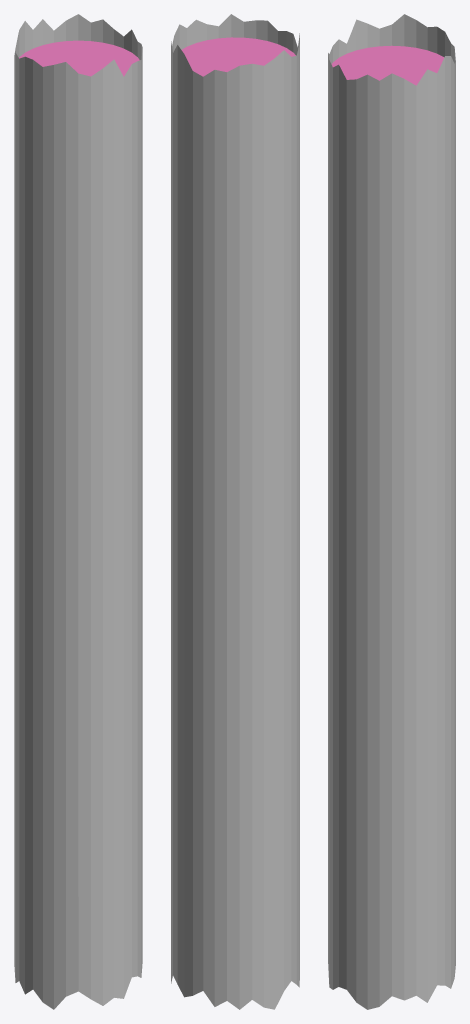
File: Wood3.fbx
3 views of the same model, side by side, from view 1: azimuth 90°, elevation 25°; view 2: azimuth 150°, elevation 25°; view 3: azimuth 270°, elevation 25° (orthographic).
Visible parts, largest first — view 1: Cylinder.001; view 2: Cylinder.001; view 3: Cylinder.001.
Part boxes in pixels (<box>): Cylinder.001: <box>14,14,142,1009</box>; Cylinder.001: <box>171,14,299,1009</box>; Cylinder.001: <box>328,14,455,1009</box>.
Bounding box in the file's own units: 100 × 816 × 100.
